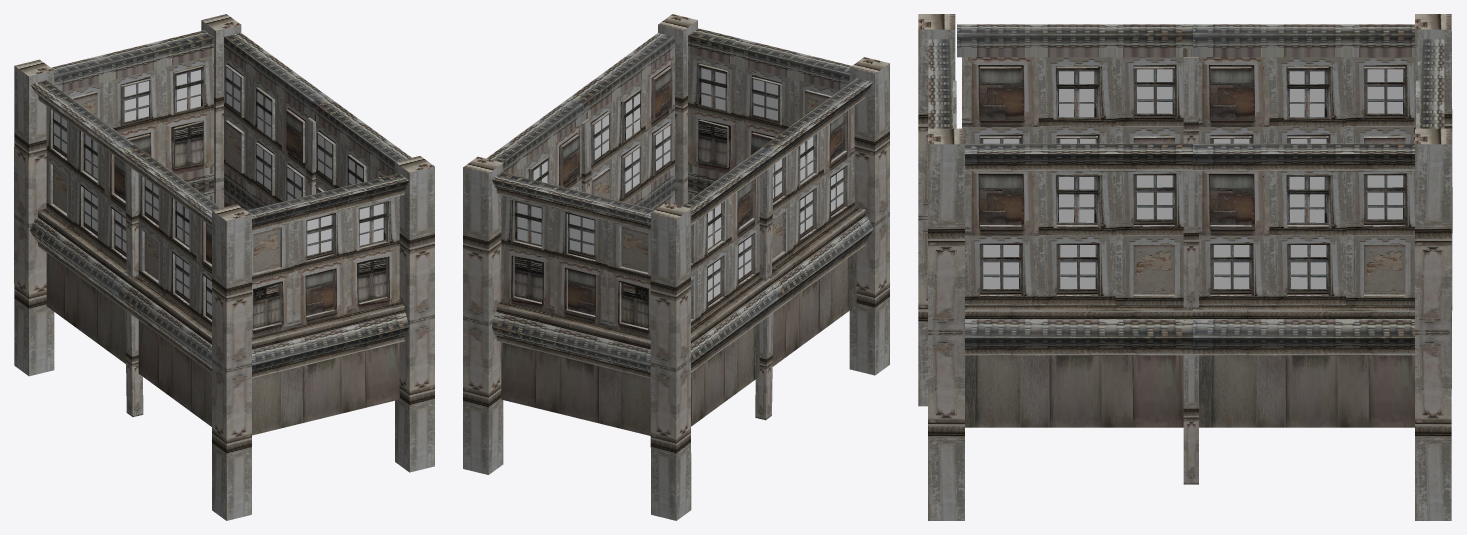
File: RustWall_nadbystrzycka.fbx
3 views of the same model, side by side, from view 1: azimuth 30°, elevation 25°; view 2: azimuth 150°, elevation 25°; view 3: azimuth 270°, elevation 25° (orthographic). The views are drawn at different scales.
Visible parts, largest first — view 1: Plane.012; view 2: Plane.012; view 3: Plane.012.
Boxes of the visible parts, x1=… form: Plane.012: x1=14, y1=14, x2=434, y2=520; Plane.012: x1=463, y1=14, x2=889, y2=520; Plane.012: x1=918, y1=14, x2=1452, y2=520.
Size of the model in its own units: 16.04 by 21.65 by 27.81.
2 materials, 1 textured.
